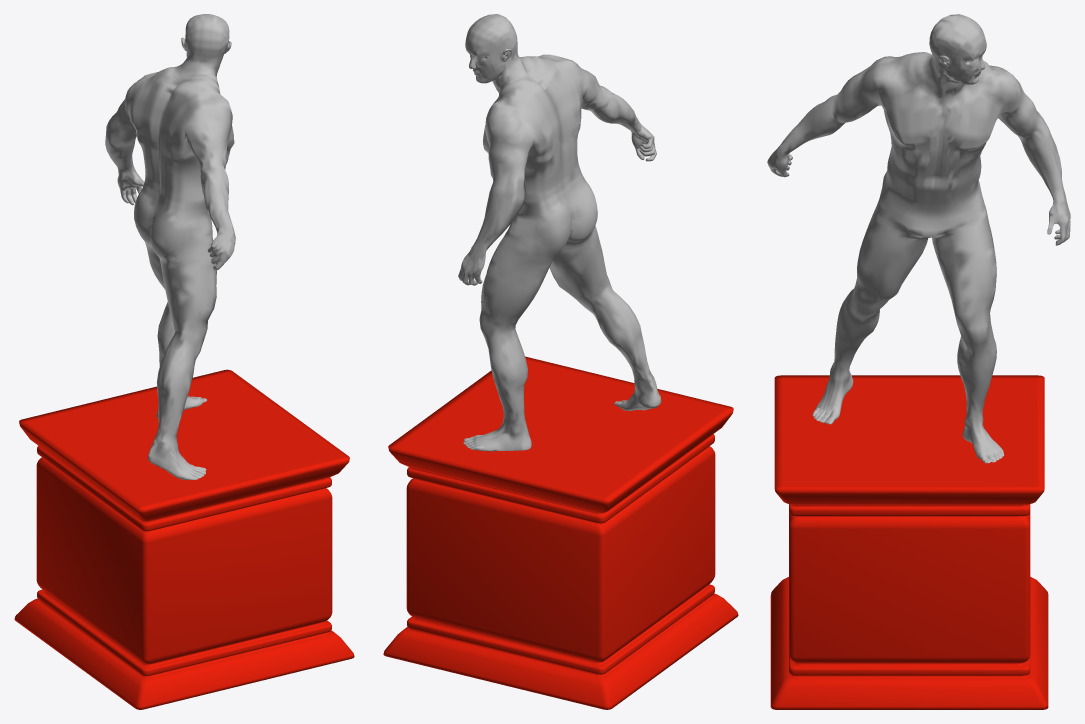
File: Marble Statue Low Poly.fbx
3 renders of one model, left to right at view 1: azimuth 30°, elevation 25°; view 2: azimuth 150°, elevation 25°; view 3: azimuth 270°, elevation 25°, orthographic. The views are drawn at different scales.
Parts seen in each view (by area): view 1: pedestal low poly, body low poly; view 2: pedestal low poly, body low poly; view 3: pedestal low poly, body low poly.
Part boxes in pixels (x1,y1,x2,y2): pedestal low poly: [14, 369, 354, 709]; body low poly: [105, 14, 235, 480]; pedestal low poly: [383, 356, 738, 709]; body low poly: [458, 14, 661, 451]; pedestal low poly: [770, 375, 1048, 709]; body low poly: [767, 14, 1070, 463].
Size of the model in its own units: 182 by 475 by 199.
